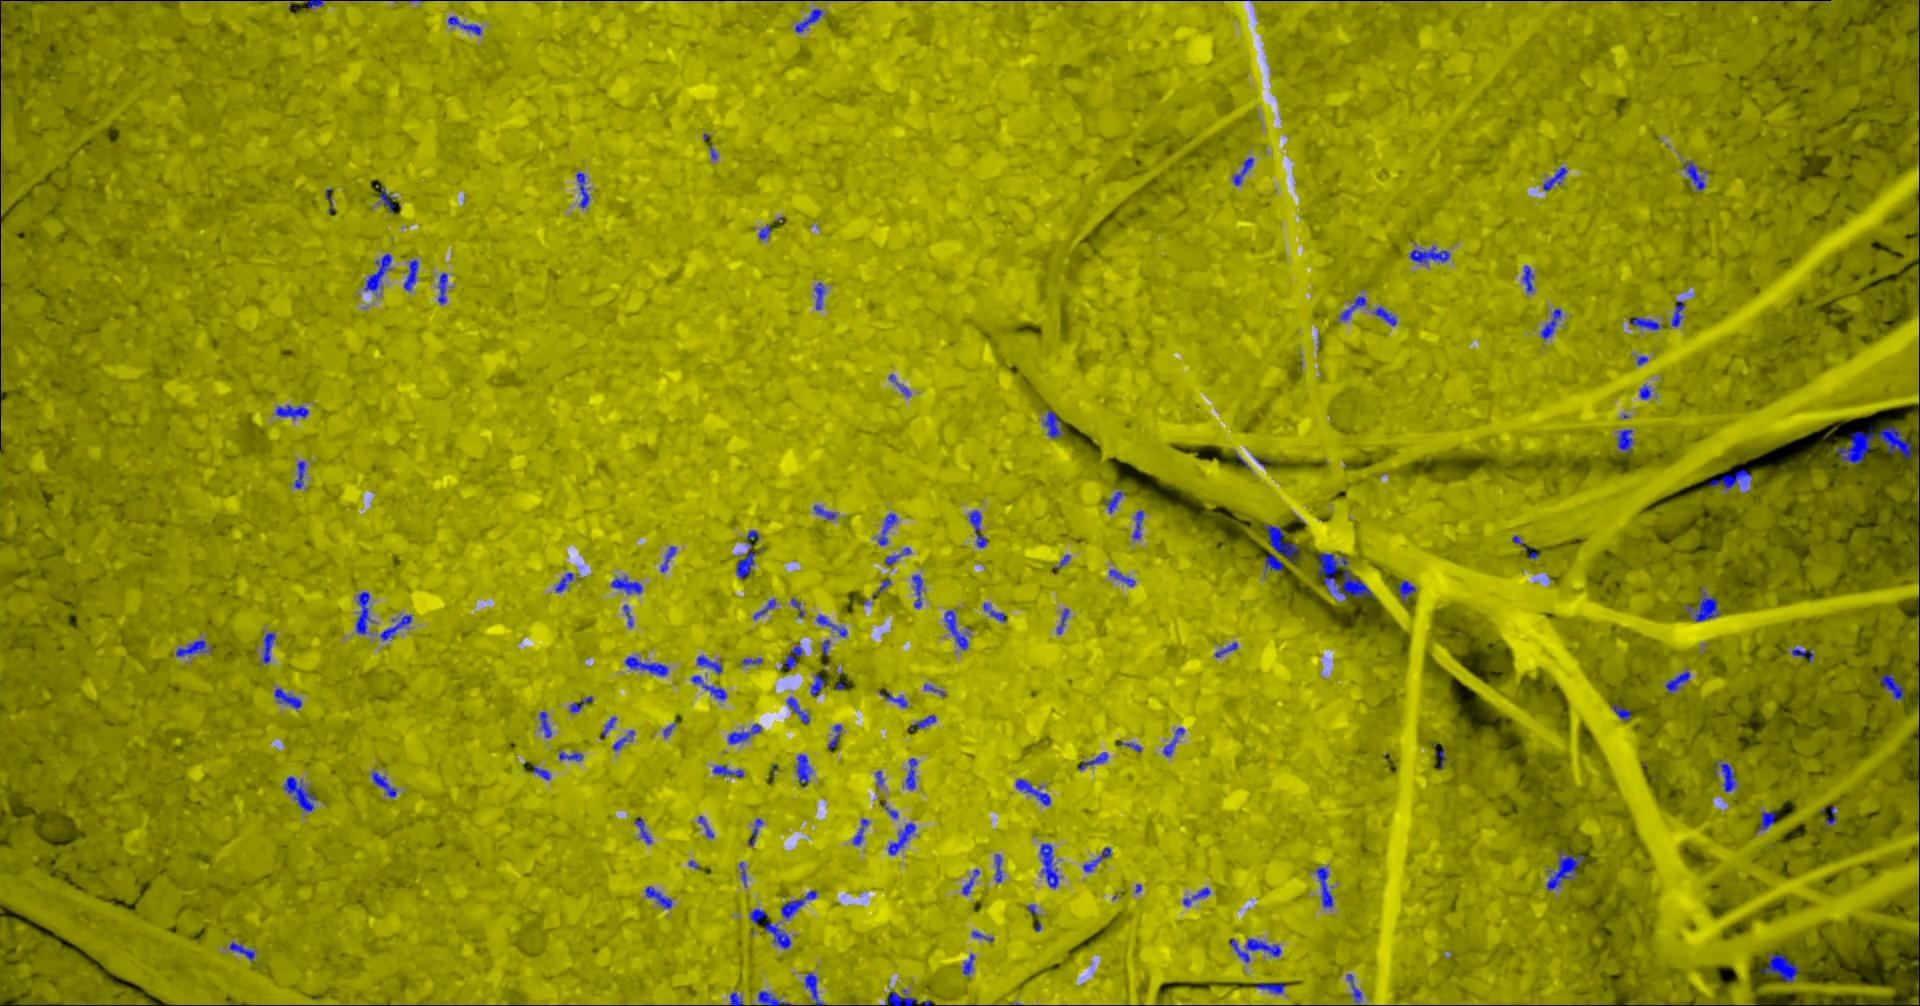ant: (1316, 553, 1374, 598), (1545, 848, 1583, 890), (1262, 525, 1302, 561), (1229, 937, 1280, 962), (1760, 951, 1799, 982), (283, 776, 316, 810), (364, 253, 391, 293), (1685, 591, 1719, 621), (943, 608, 969, 649), (780, 890, 817, 918), (1015, 779, 1050, 805), (690, 674, 726, 700), (1708, 467, 1751, 489), (888, 822, 916, 855), (378, 614, 411, 640), (623, 655, 667, 676), (1039, 843, 1058, 888), (1338, 295, 1368, 321), (815, 614, 847, 636), (1408, 246, 1449, 264), (1316, 866, 1333, 907), (968, 511, 987, 547), (881, 991, 931, 1005), (1877, 673, 1903, 699), (794, 8, 822, 32), (1082, 847, 1110, 871), (447, 15, 480, 36), (728, 723, 761, 743), (1713, 762, 1736, 791), (1683, 160, 1704, 191), (735, 544, 754, 578), (1540, 307, 1561, 339), (371, 771, 396, 796), (764, 922, 790, 948), (1230, 158, 1253, 185), (1162, 727, 1183, 756), (877, 512, 897, 545), (610, 575, 643, 594), (803, 972, 822, 1005), (1542, 166, 1567, 191), (786, 696, 809, 723), (175, 639, 212, 655), (356, 591, 370, 634), (273, 687, 301, 709), (1665, 669, 1689, 694), (644, 887, 670, 908), (794, 754, 811, 786), (780, 645, 803, 669), (1078, 752, 1109, 770), (1043, 409, 1062, 437), (879, 688, 907, 708), (229, 941, 254, 962), (1182, 887, 1209, 906), (757, 989, 790, 1005), (888, 373, 910, 395), (752, 598, 776, 619), (634, 817, 651, 843), (961, 869, 979, 895), (403, 259, 418, 290), (1103, 490, 1124, 513), (276, 404, 309, 418), (907, 714, 935, 730), (982, 602, 1006, 621), (577, 171, 589, 207), (696, 655, 721, 673), (378, 187, 395, 213), (884, 547, 910, 564), (1109, 569, 1135, 586), (852, 818, 869, 845), (612, 729, 634, 749), (1373, 306, 1396, 325), (1346, 974, 1361, 1002), (1757, 809, 1778, 829), (660, 545, 676, 572), (747, 818, 762, 845), (910, 574, 922, 608), (1629, 316, 1660, 329), (1617, 429, 1632, 455), (1263, 553, 1283, 573), (554, 572, 573, 592), (262, 633, 274, 663), (712, 765, 743, 777), (1255, 982, 1285, 995), (569, 696, 592, 713), (1397, 580, 1415, 601), (813, 504, 836, 520), (1214, 641, 1237, 657), (905, 758, 917, 789), (697, 815, 712, 838), (1671, 300, 1684, 326), (1611, 702, 1630, 720), (1818, 807, 1836, 826), (827, 724, 841, 748), (437, 272, 447, 304), (538, 711, 551, 737), (1131, 511, 1143, 539), (810, 674, 825, 695), (601, 716, 616, 737), (1057, 608, 1068, 634), (1790, 648, 1813, 661), (1523, 265, 1533, 292), (814, 282, 824, 309), (749, 908, 767, 923), (790, 598, 804, 617), (532, 765, 550, 779), (963, 953, 974, 974), (295, 461, 303, 488), (622, 605, 632, 627), (557, 751, 582, 760), (994, 854, 1002, 882), (745, 528, 758, 542), (758, 224, 770, 239), (1437, 746, 1445, 768), (729, 992, 742, 1005), (1639, 384, 1650, 399), (742, 657, 762, 664), (303, 0, 323, 8)
